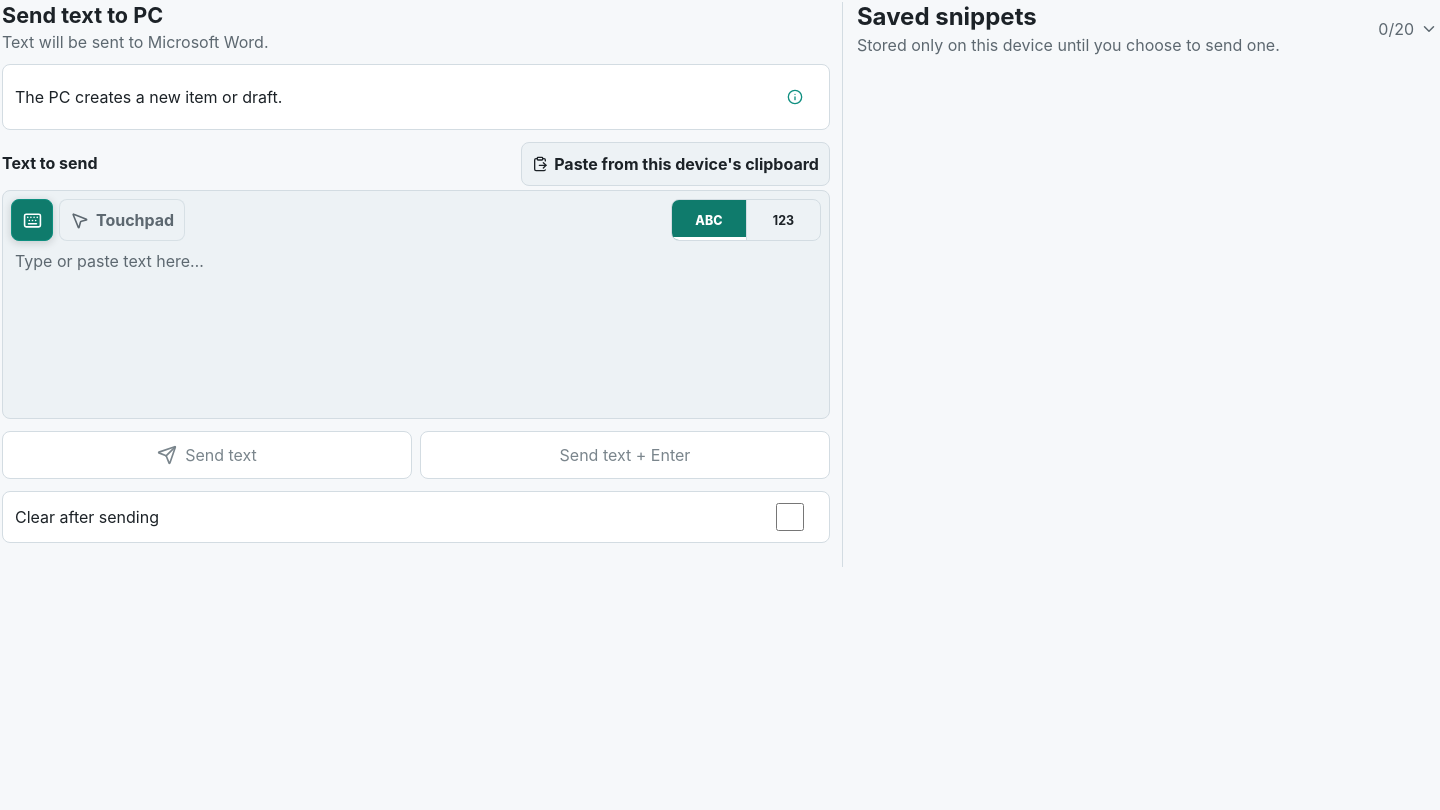
Scenario: TextTransferMode › keeps managed delivery guidance compact and opens its details in a modal
Expected: the text "The PC creates a new item or draft." is shown, [15,87,282,107]
What coordinates should you click on to do the following:
click the button named "About Managed destination"
I would click on:
 (795, 97)
Its box is [773,75,817,119].
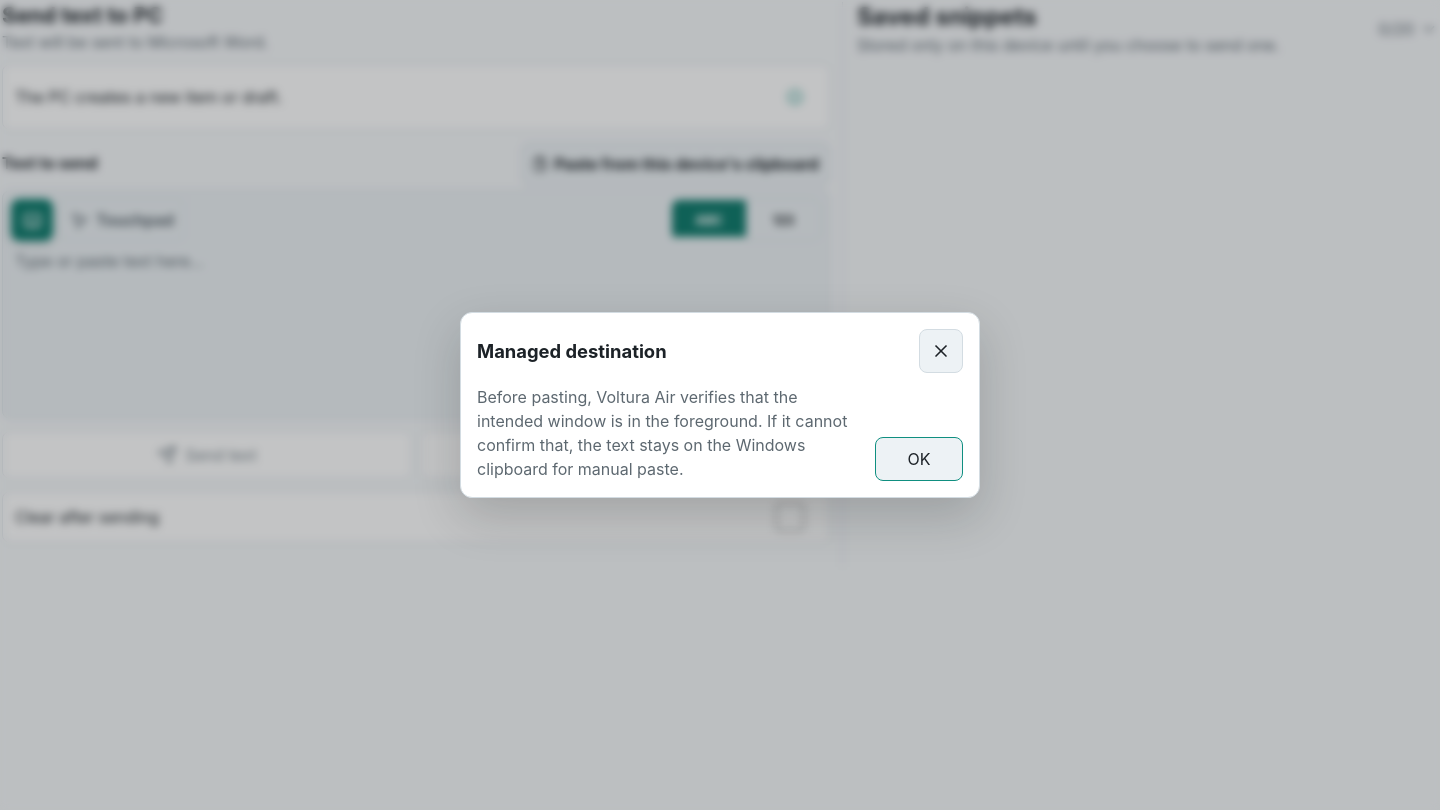
Result: the dialog "Managed destination" shows "verifies that the intended window is in the foreground" at [477,387,847,479]
